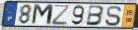8: (18, 4, 33, 26)
9: (70, 5, 86, 26)
B: (85, 4, 106, 26)
M: (30, 3, 55, 27)
S: (104, 5, 124, 27)
Z: (51, 5, 71, 27)
